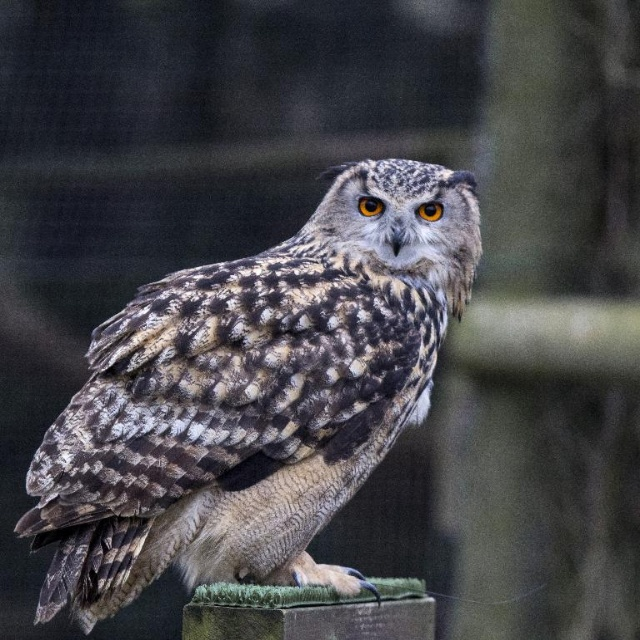Owl: (13, 158, 483, 637)
